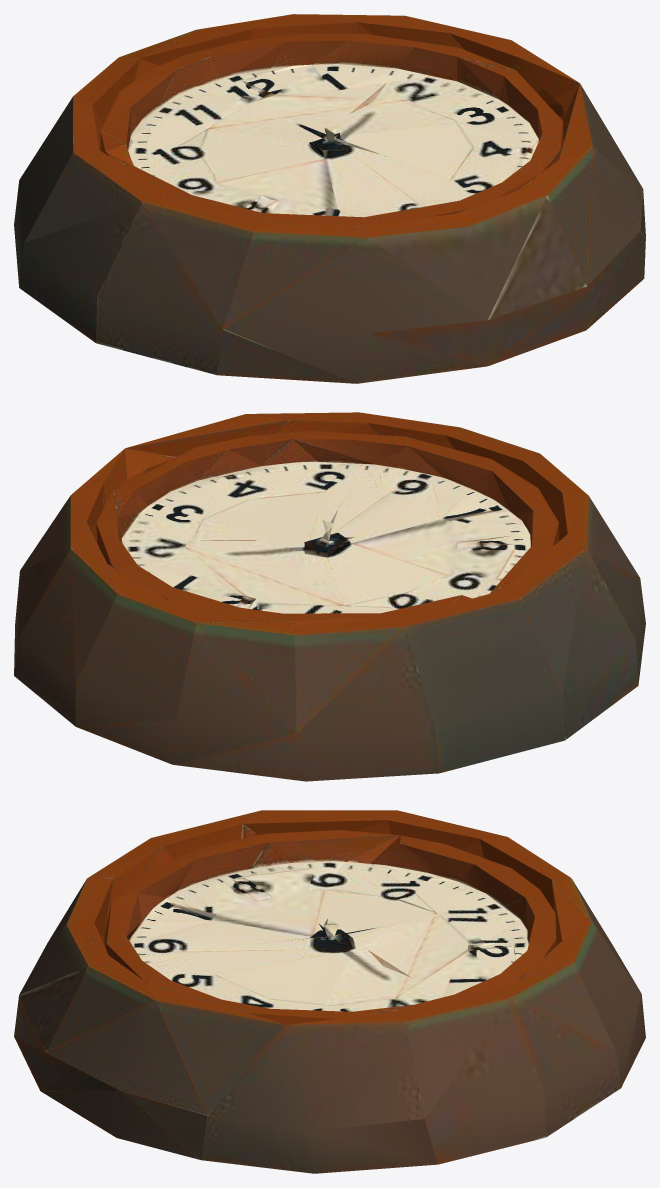
File: wallClock.glb
3 views of the same model, one above another, from view 1: azimuth 30°, elevation 25°; view 2: azimuth 150°, elevation 25°; view 3: azimuth 270°, elevation 25° (orthographic). The views are drawn at different scales.
Size of the model in its own units: 1.88 by 0.4156 by 1.9.
Materials: 1 (1 with a texture image).
